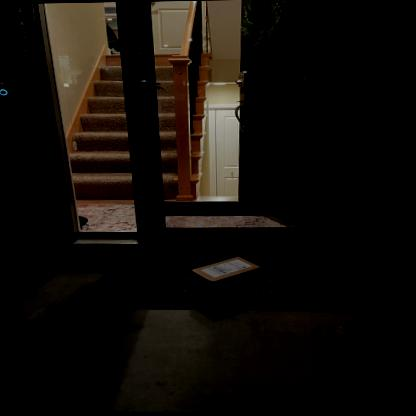box: (193, 248, 271, 307)
